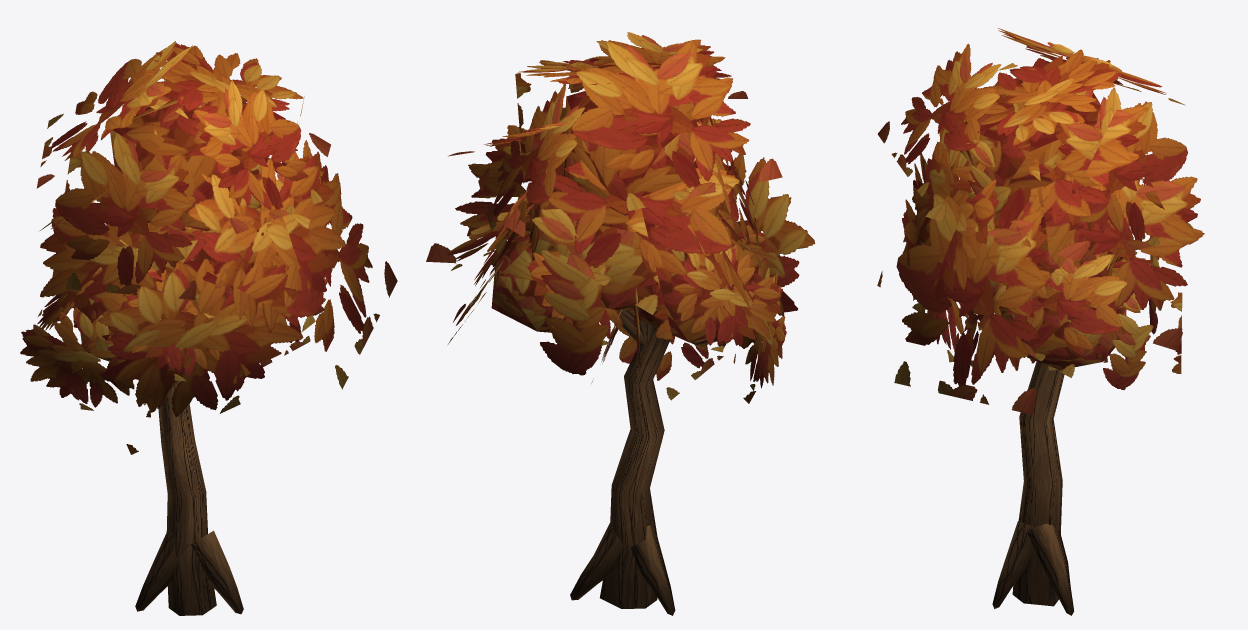
Rendered from tree_autumn_b_lod1.glb.
3 renders of one model, left to right at view 1: azimuth 30°, elevation 25°; view 2: azimuth 150°, elevation 25°; view 3: azimuth 270°, elevation 25°, orthographic. The views are drawn at different scales.
Visible parts, largest first — view 1: tree_autumn_b_lod1; view 2: tree_autumn_b_lod1; view 3: tree_autumn_b_lod1.
Part boxes in pixels (x1,y1,x2,y2): tree_autumn_b_lod1: (20, 41, 397, 615); tree_autumn_b_lod1: (426, 32, 815, 615); tree_autumn_b_lod1: (877, 28, 1204, 615).
Bounding box in the file's own units: 3.12 × 4.44 × 2.56.
Materials: 2 (2 with a texture image).
